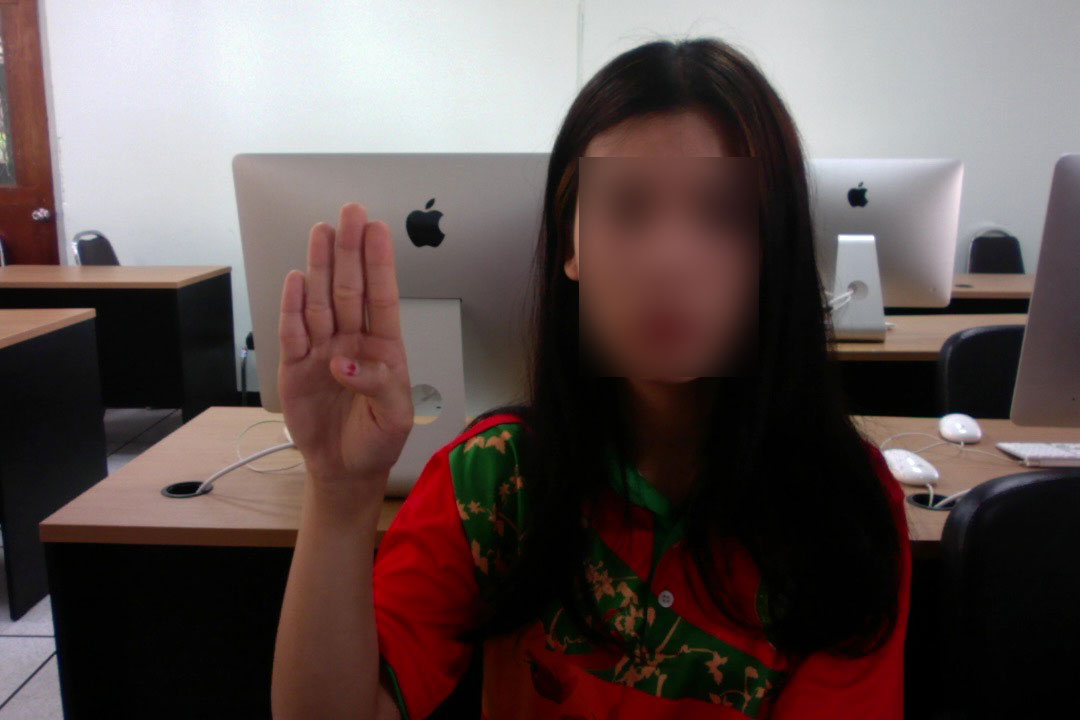bor: (272, 198, 421, 506)
